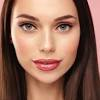face: (15, 14, 79, 72)
